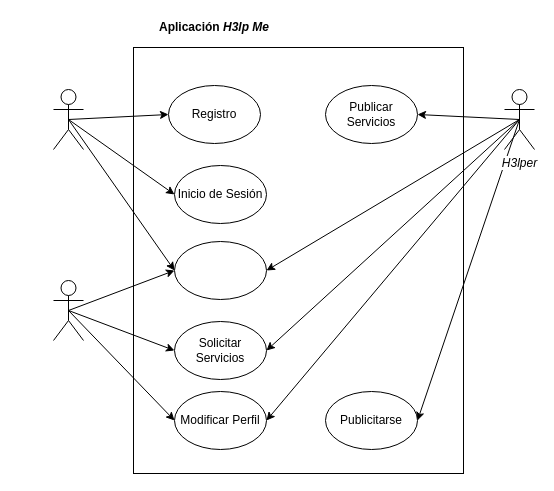
Image size: 554x491. Some labels were removed from this diagram. The shapes that lost their labels are listed below. From the top down, each one's centre as x and y in pixels, then its label:
(x=68, y=119): Usuario
(x=220, y=270): Búsqueda de Servicios
(x=68, y=310): Usuario Registrado
